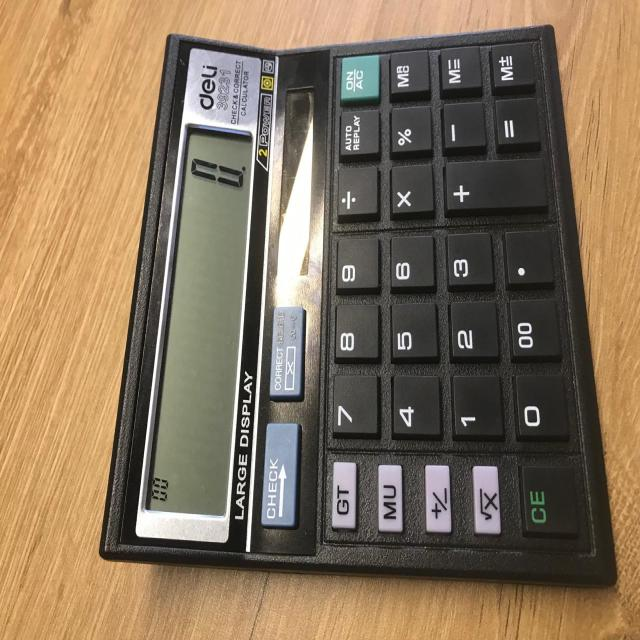calculator: (98, 22, 618, 588)
